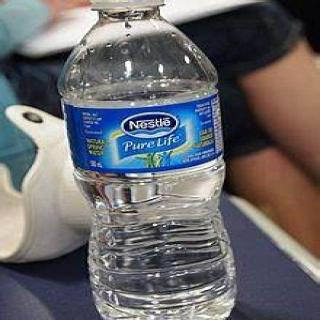Anorganik: (66, 0, 244, 320)
